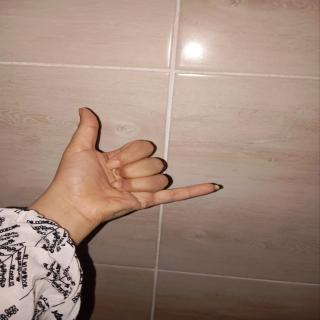YA: (42, 99, 237, 234)
